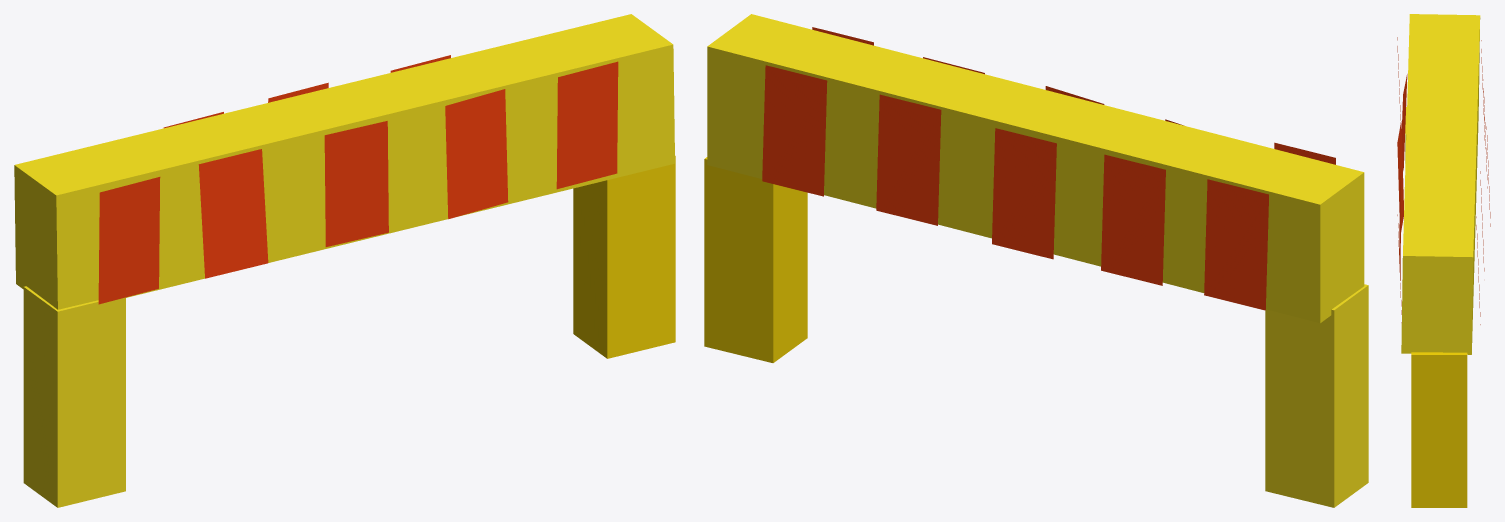
File: obstacle4.fbx
The picture shows the model from 3 angles, left to right: view 1: azimuth 30°, elevation 25°; view 2: azimuth 150°, elevation 25°; view 3: azimuth 270°, elevation 25°; orthographic projection. The views are drawn at different scales.
Parts seen in each view (by area): view 1: 평면.001; view 2: 평면.001; view 3: 평면.001.
Part boxes in pixels (x1,y1,x2,y2): 평면.001: (14,14,675,507); 평면.001: (704,14,1368,507); 평면.001: (1397,14,1490,507).
Bounding box in the file's own units: 879 × 425 × 140.
